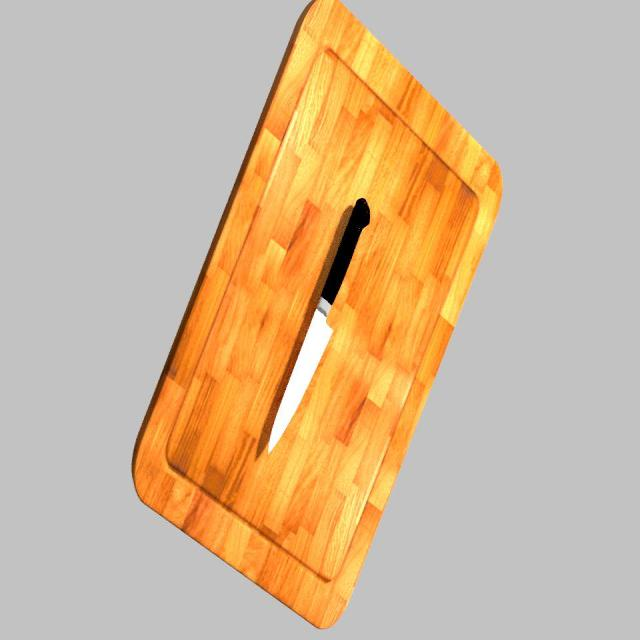knife: (320, 198, 370, 306)
